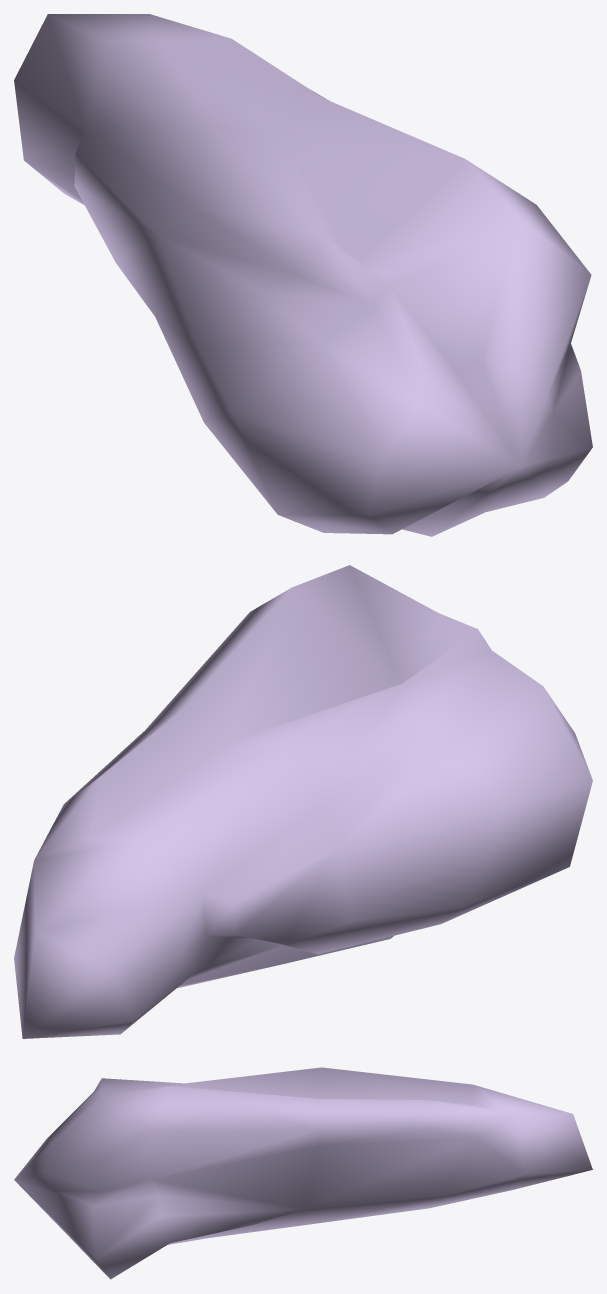
3 renders of one model, top to bottom at view 1: azimuth 30°, elevation 25°; view 2: azimuth 150°, elevation 25°; view 3: azimuth 270°, elevation 25°, orthographic. The views are drawn at different scales.
Visible parts, largest first — view 1: Object53; view 2: Object53; view 3: Object53.
Boxes of the visible parts, <box> form: Object53: <box>14,14,592,536</box>; Object53: <box>14,565,592,1038</box>; Object53: <box>14,1067,592,1279</box>.
Bounding box in the file's own units: 19504 × 17727 × 48458.
